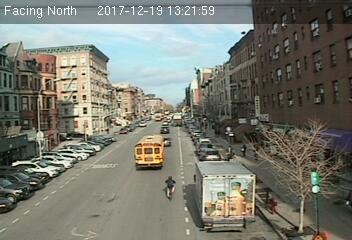bicycle: (165, 174, 176, 201)
car: (199, 147, 221, 161)
truck: (195, 160, 253, 231), (133, 134, 164, 170)
